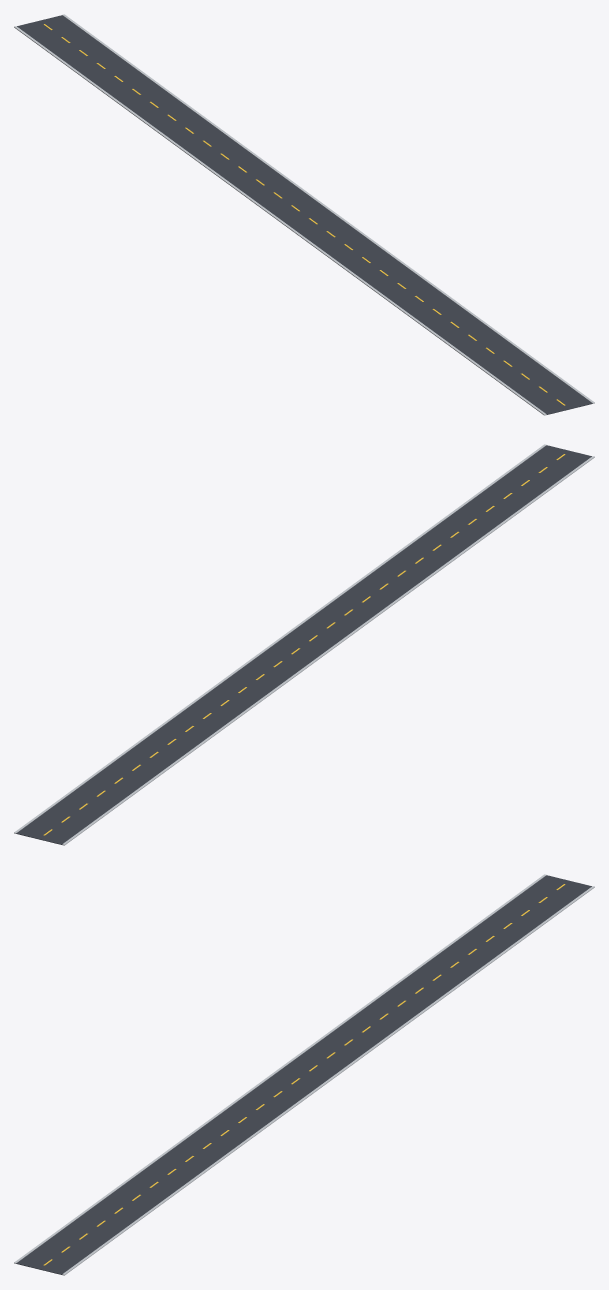
File: Bike_Road.fbx
The picture shows the model from 3 angles, top to bottom: view 1: azimuth 30°, elevation 25°; view 2: azimuth 150°, elevation 25°; view 3: azimuth 330°, elevation 25°; orthographic projection.
Visible parts, largest first — view 1: Road; view 2: Road; view 3: Road.
Boxes of the visible parts, x1=… form: Road: x1=14, y1=14, x2=594, y2=415; Road: x1=14, y1=444, x2=594, y2=845; Road: x1=14, y1=874, x2=594, y2=1275.
Size of the model in its own units: 6.6 by 0.1 by 120.
